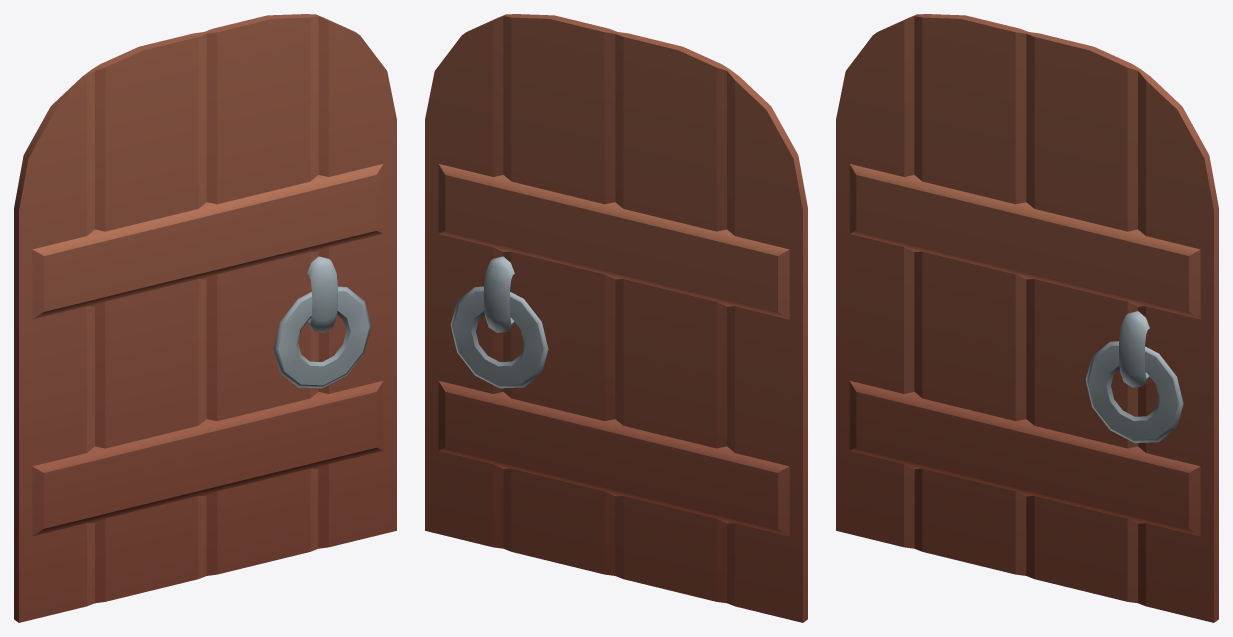
Rendered from Door.glb.
3 views of the same model, side by side, from view 1: azimuth 30°, elevation 25°; view 2: azimuth 150°, elevation 25°; view 3: azimuth 330°, elevation 25° (orthographic).
Parts seen in each view (by area): view 1: wall_doorway_door_Cube.13134; view 2: wall_doorway_door_Cube.13134; view 3: wall_doorway_door_Cube.13134.
Part boxes in pixels (x1,y1,x2,y2): wall_doorway_door_Cube.13134: (14,14,396,622); wall_doorway_door_Cube.13134: (425,14,807,622); wall_doorway_door_Cube.13134: (836,14,1218,622).
Bounding box in the file's own units: 1.75 × 2.4 × 0.15.
Materials: 1 (1 with a texture image).
